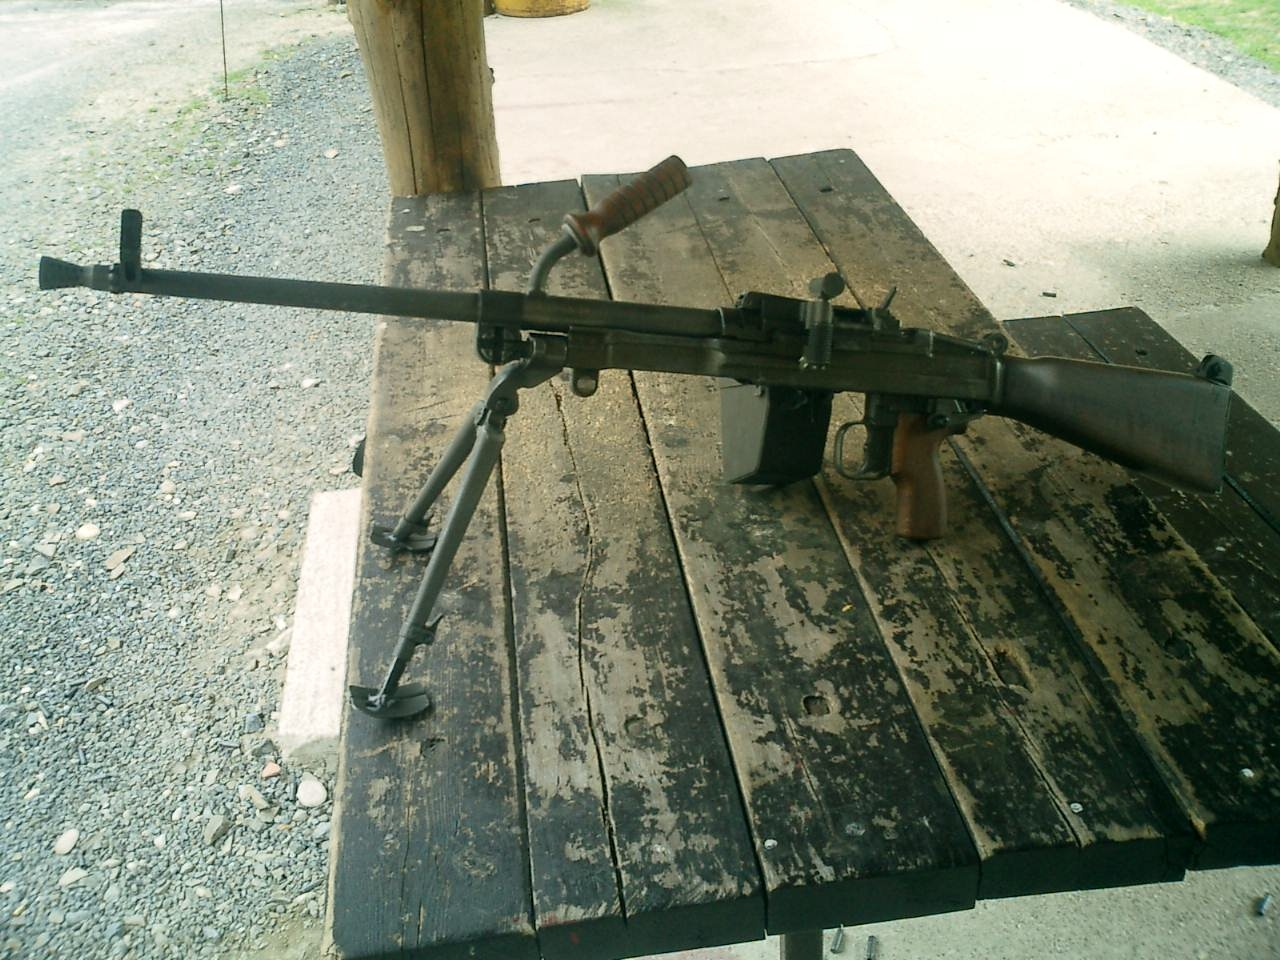rifle: (21, 175, 1217, 727)
